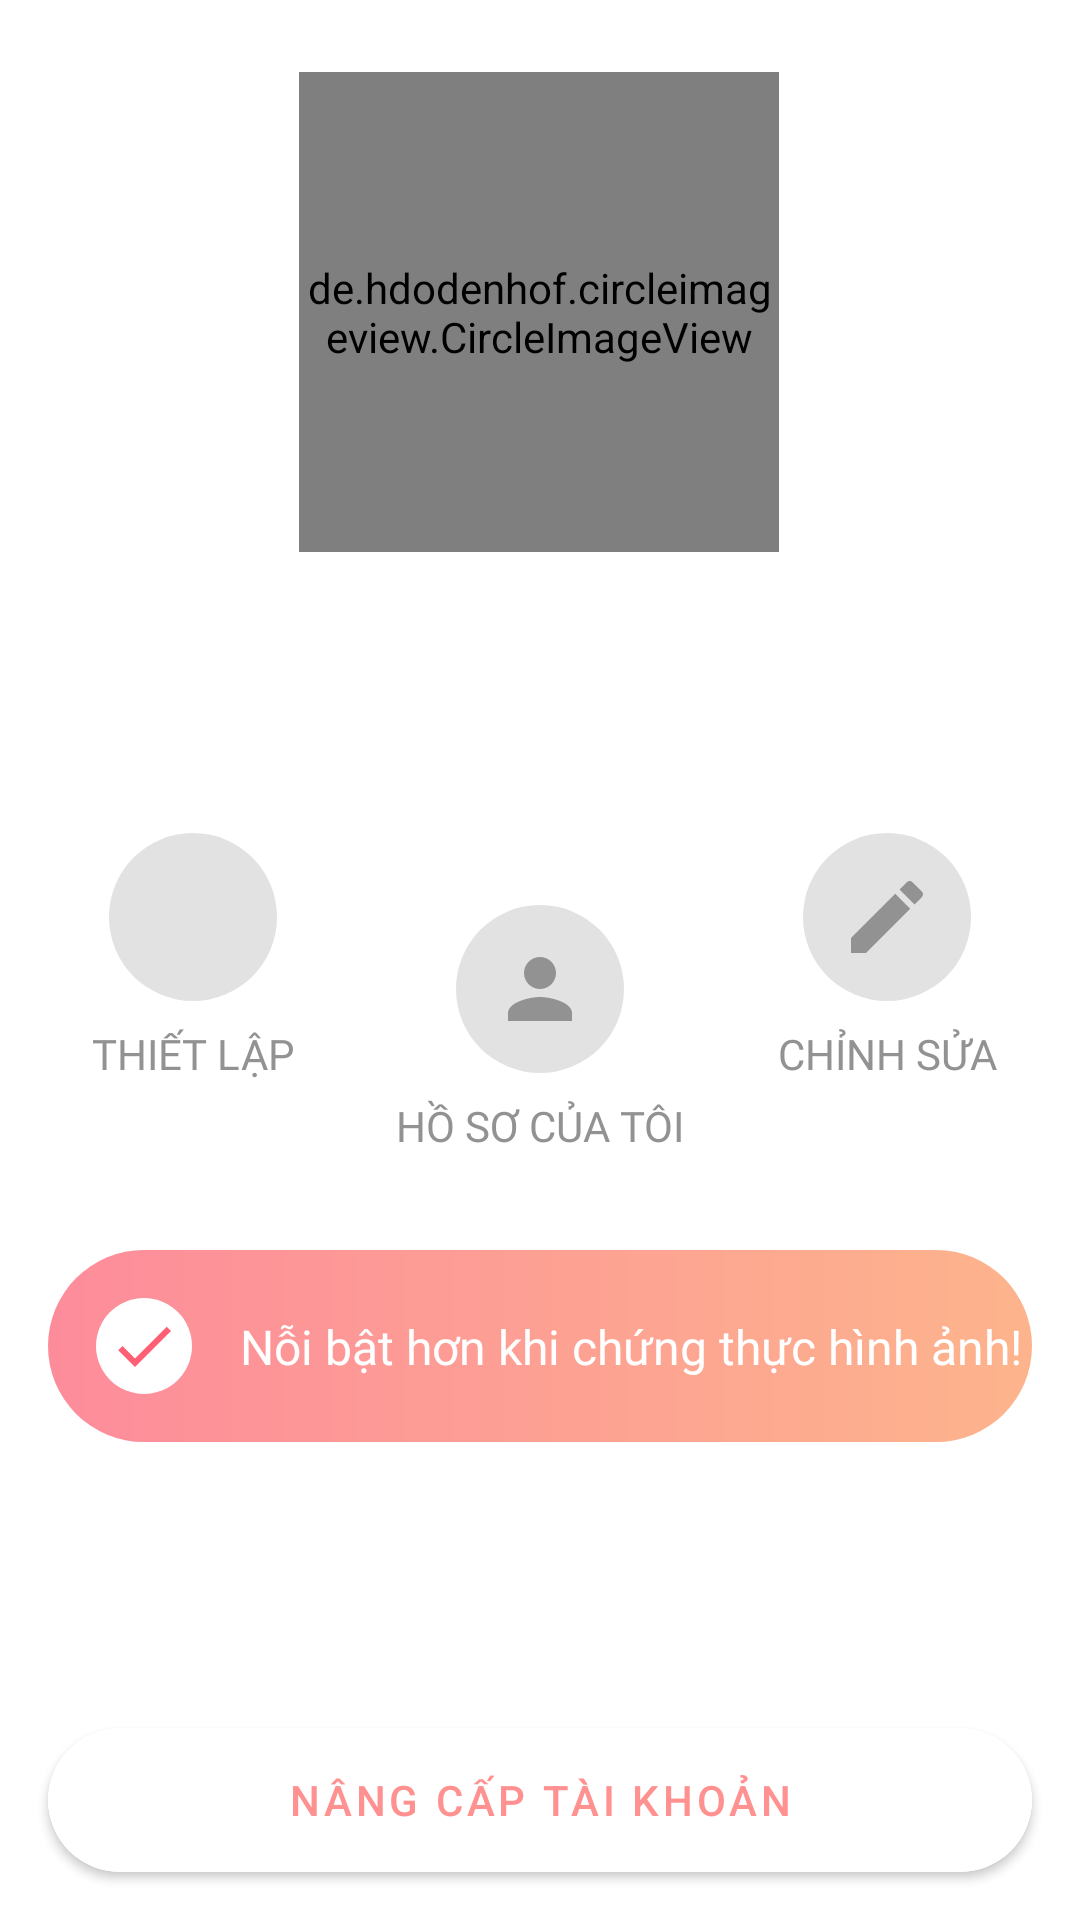

Icons on this 1080*1920 Android screen, each with its box as detection(x1, y1, x2, y2):
check: detection(96, 1298, 192, 1394)
